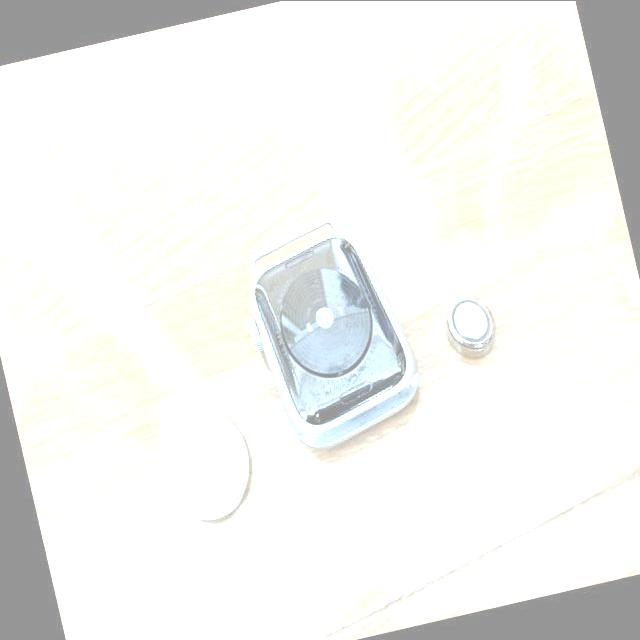COIN: (159, 411, 262, 528), (439, 291, 501, 364)
